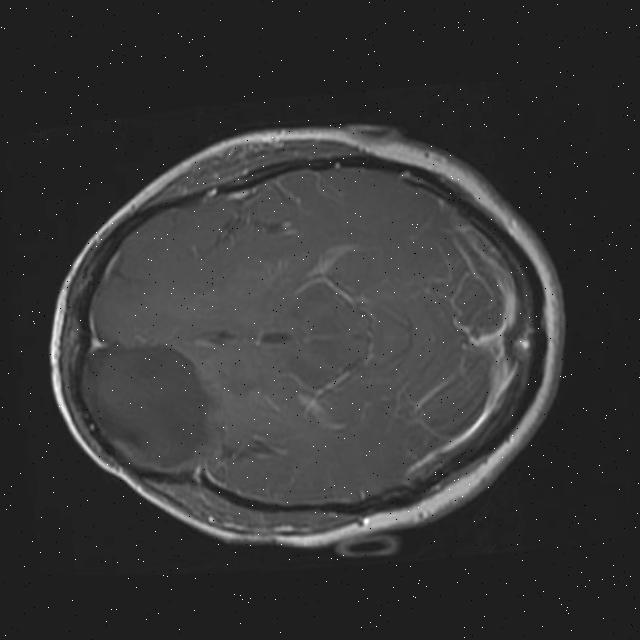Glioma: (74, 336, 213, 477)
